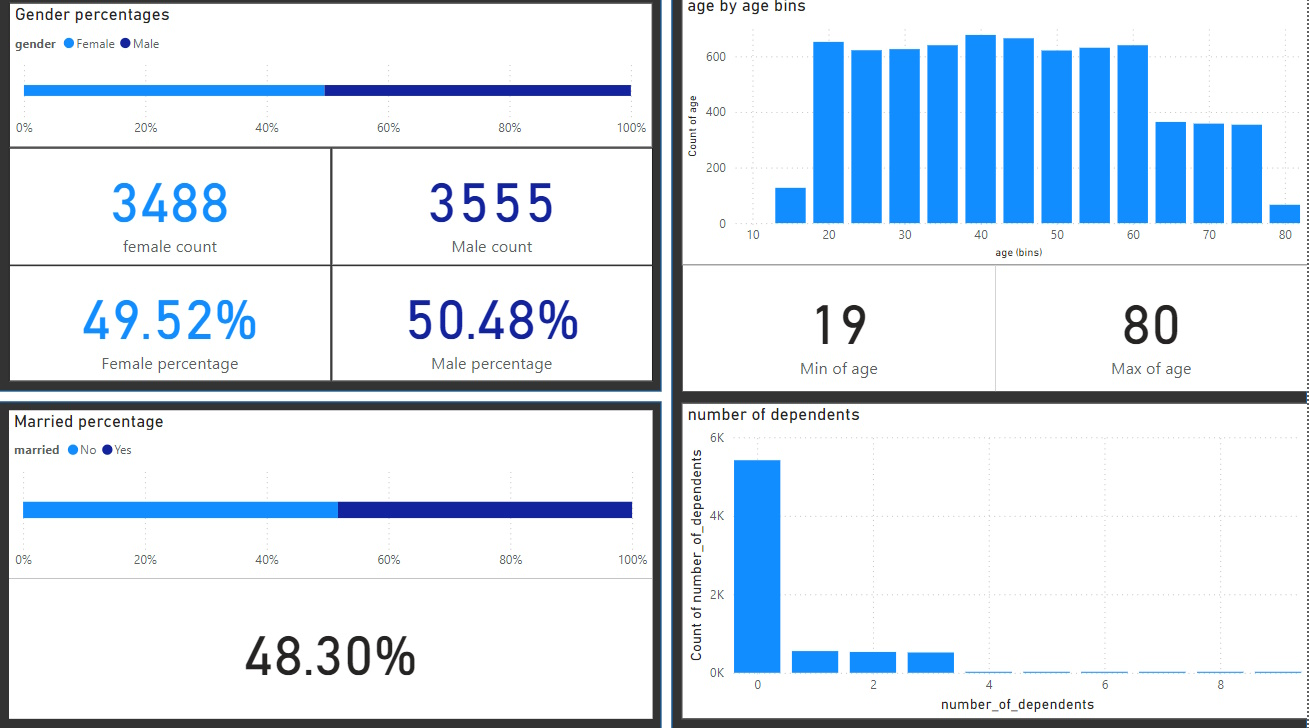

What the dashboard file says about the page in this screenshot:
{"tool":"powerbi","page":{"name":"Demographics","canvas":[1280,720],"ordinal":1},"visuals":[{"type":"shape","box":[0,0,648.1,388.9],"z":0},{"type":"barChart","title":"Gender percentages","fields":{"Series":["Customer_Info.gender"],"Y":["CountNonNull(Customer_Info.customer_id)"]},"box":[9.8,8.6,629.8,141.8],"z":1000},{"type":"card","fields":{"Values":["Customer_Info.female percentage"]},"box":[9.8,150.4,315.5,114.9],"z":2000},{"type":"card","fields":{"Values":["Customer_Info.Male percentage"]},"box":[325.3,150.4,314.3,114.9],"z":3000},{"type":"card","fields":{"Values":["Customer_Info.Female percentage"]},"box":[9.8,265.4,315.5,113.7],"z":4000},{"type":"shape","box":[0,398.6,648.1,321.6],"z":5000},{"type":"card","fields":{"Values":["Customer_Info.Male percentage"]},"box":[325.3,265.4,314.3,113.7],"z":6000},{"type":"shape","box":[658.1,0,621.9,720.7],"z":7000},{"type":"clusteredColumnChart","title":"age by age bins","fields":{"Category":["Customer_Info.age (bins)"],"Y":["CountNonNull(Customer_Info.age)"]},"box":[667.7,0,612.6,265.4],"z":8000},{"type":"barChart","title":"Married percentage","fields":{"Y":["CountNonNull(Customer_Info.customer_id)"],"Series":["Customer_Info.married"]},"box":[9.8,407.2,629.8,165.1],"z":9000},{"type":"card","fields":{"Values":["Customer_Info.Married percentage"]},"box":[9.8,572.3,629.8,137],"z":10000},{"type":"clusteredColumnChart","title":"number of dependents","fields":{"Y":["CountNonNull(Customer_Info.number_of_dependents)"],"Category":["Customer_Info.number_of_dependents"]},"box":[667.7,399.9,612.6,309.4],"z":11000},{"type":"card","fields":{"Values":["Min(Customer_Info.age)"]},"box":[668.9,265.4,305.7,123.5],"z":12000},{"type":"card","fields":{"Values":["Max(Customer_Info.age)"]},"box":[974.6,265.4,305.7,123.5],"z":13000}]}

Visuals, with their boxes in screenshot pixels (x1, y1, x2, y2), scaled from the page's 1280x720 canvas onto the 1310x728 screenshot:
shape: BBox(0, 0, 663, 393)
"Gender percentages" barChart: BBox(10, 9, 655, 152)
card - Customer_Info.female percentage: BBox(10, 152, 333, 268)
card - Customer_Info.Male percentage: BBox(333, 152, 655, 268)
card - Customer_Info.Female percentage: BBox(10, 268, 333, 383)
shape: BBox(0, 403, 663, 727)
card - Customer_Info.Male percentage: BBox(333, 268, 655, 383)
shape: BBox(674, 0, 1309, 727)
"age by age bins" clusteredColumnChart: BBox(683, 0, 1309, 268)
"Married percentage" barChart: BBox(10, 412, 655, 579)
card - Customer_Info.Married percentage: BBox(10, 579, 655, 717)
"number of dependents" clusteredColumnChart: BBox(683, 404, 1309, 717)
card - Min(Customer_Info.age): BBox(685, 268, 997, 393)
card - Max(Customer_Info.age): BBox(997, 268, 1309, 393)
